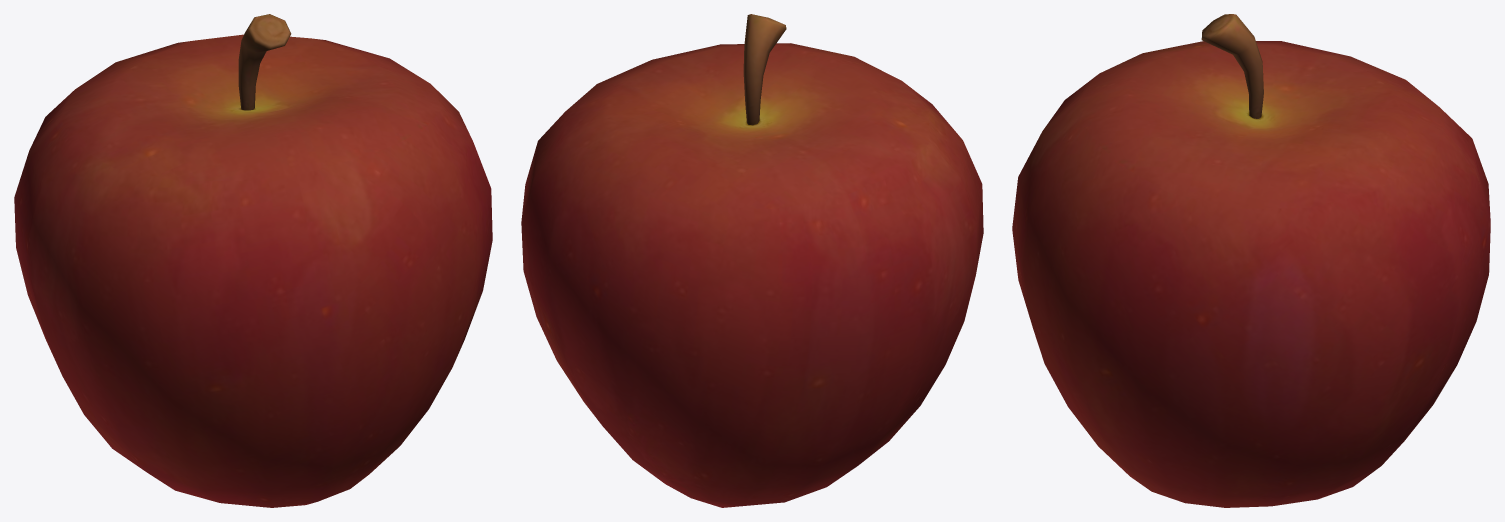
File: apple-whole.glb
The picture shows the model from 3 angles, left to right: view 1: azimuth 30°, elevation 25°; view 2: azimuth 150°, elevation 25°; view 3: azimuth 270°, elevation 25°; orthographic projection. The views are drawn at different scales.
Parts seen in each view (by area): view 1: apple-whole; view 2: apple-whole; view 3: apple-whole.
Boxes of the visible parts, x1,y1,x2,y2 form: apple-whole: [14, 14, 492, 507]; apple-whole: [521, 14, 983, 507]; apple-whole: [1012, 14, 1490, 507].
Bounding box in the file's own units: 0.9241 × 1 × 0.9276.
1 material, 1 textured.
